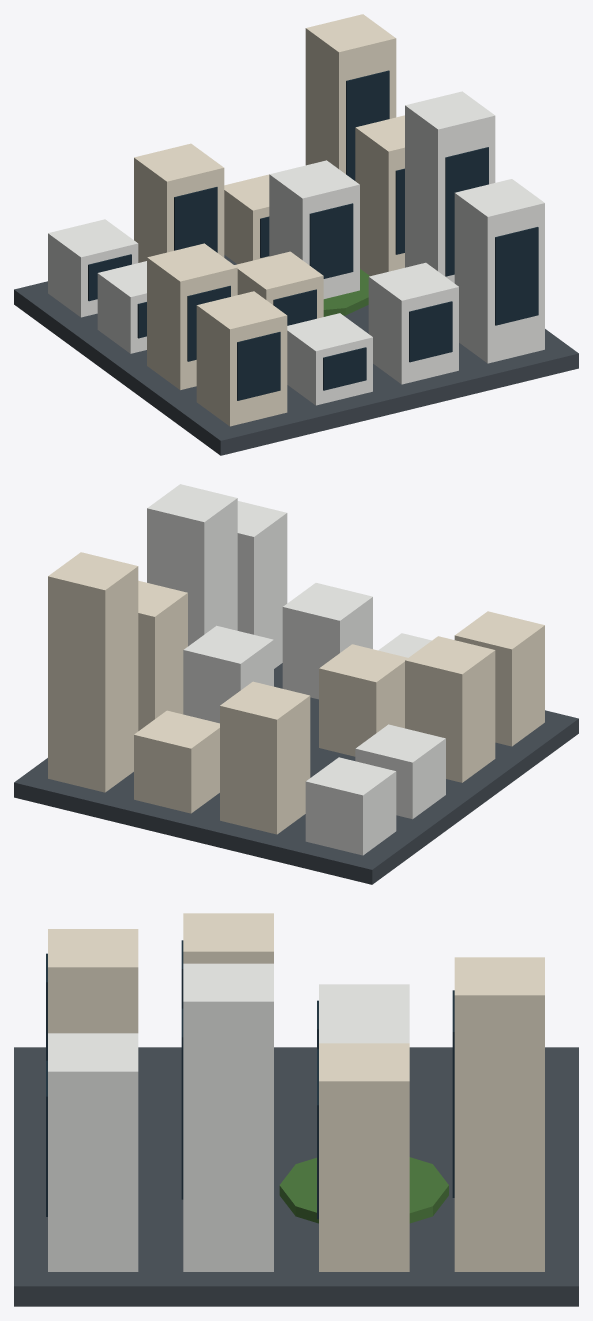
Rendered from city.glb.
3 renders of one model, top to bottom at view 1: azimuth 30°, elevation 25°; view 2: azimuth 150°, elevation 25°; view 3: azimuth 270°, elevation 25°, orthographic. The views are drawn at different scales.
Visible parts, largest first — view 1: CLCity; view 2: CLCity; view 3: CLCity.
Part boxes in pixels (box(x1,y1,x2,y2)): CLCity: box(14, 14, 578, 455); CLCity: box(14, 484, 578, 884); CLCity: box(14, 913, 578, 1306).
Bounding box in the file's own units: 1 × 0.5798 × 1.
